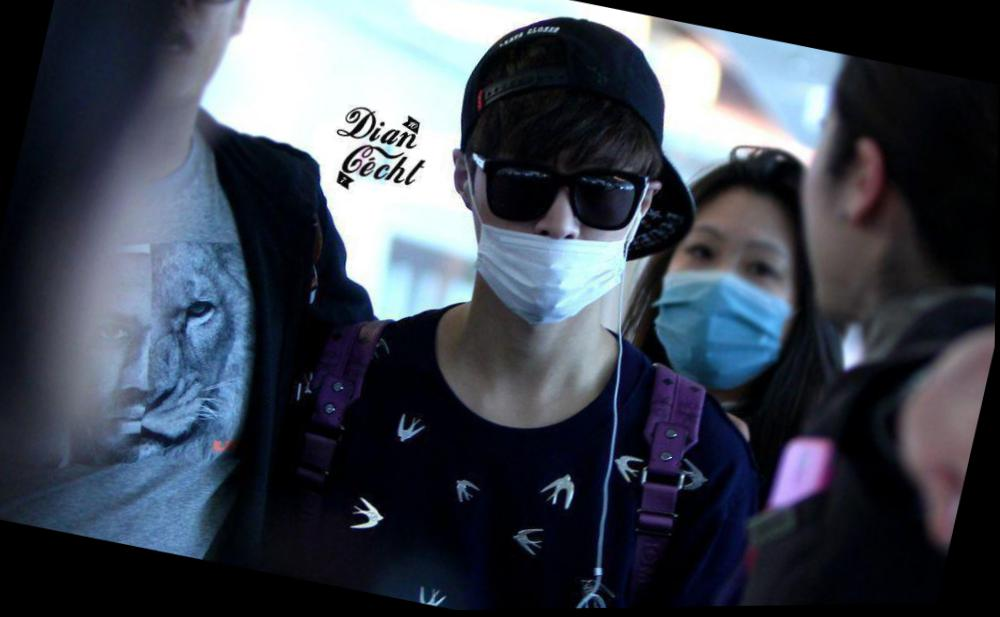NONE: (77, 1, 260, 119)
OK: (649, 212, 817, 380)
WRONG: (463, 137, 653, 328)
